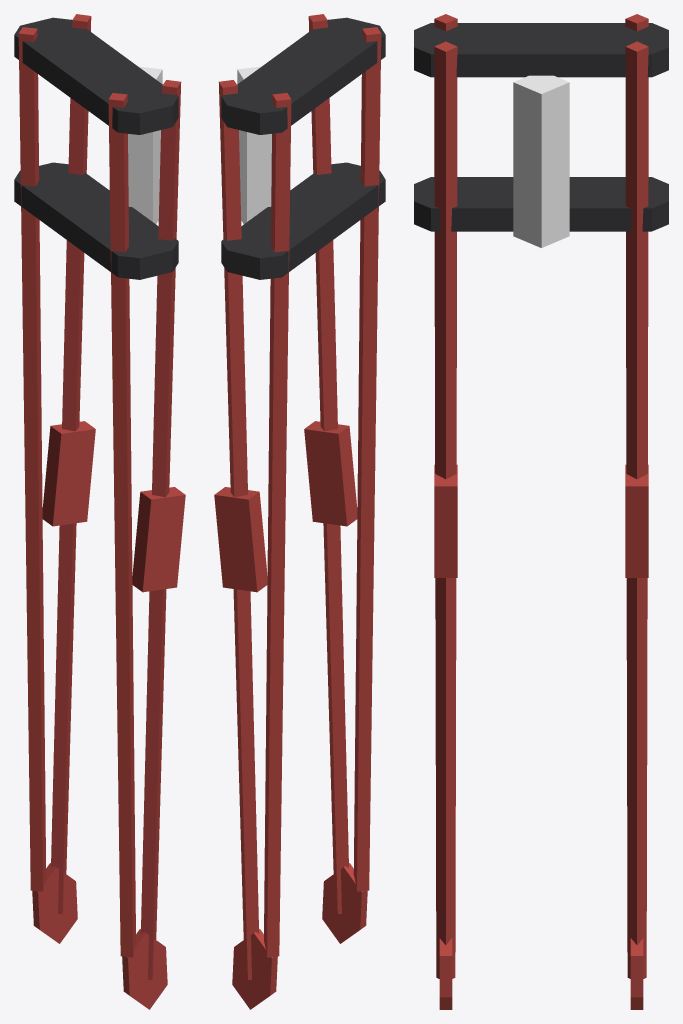
File: chopper_girder_upper_lod2.glb
The picture shows the model from 3 angles, left to right: view 1: azimuth 30°, elevation 25°; view 2: azimuth 150°, elevation 25°; view 3: azimuth 270°, elevation 25°; orthographic projection. The views are drawn at different scales.
Parts seen in each view (by area): view 1: chopper_girder_upper_lod2; view 2: chopper_girder_upper_lod2; view 3: chopper_girder_upper_lod2.
Boxes of the visible parts, x1,y1,x2,y2 form: chopper_girder_upper_lod2: [14, 14, 185, 1009]; chopper_girder_upper_lod2: [214, 14, 385, 1009]; chopper_girder_upper_lod2: [414, 14, 668, 1009].
Size of the model in its own units: 0.1145 by 1.01 by 0.24.
